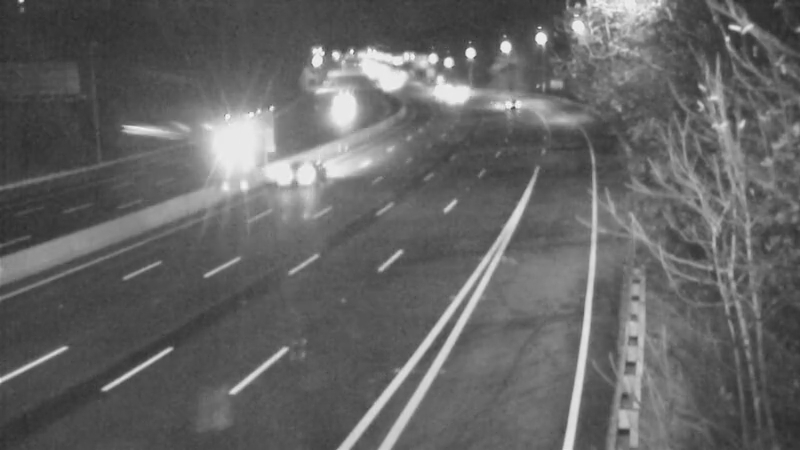vehicle: (254, 132, 334, 212), (414, 69, 464, 119), (434, 68, 484, 118), (424, 73, 474, 123), (485, 76, 535, 126), (208, 112, 258, 162), (311, 81, 361, 131)
